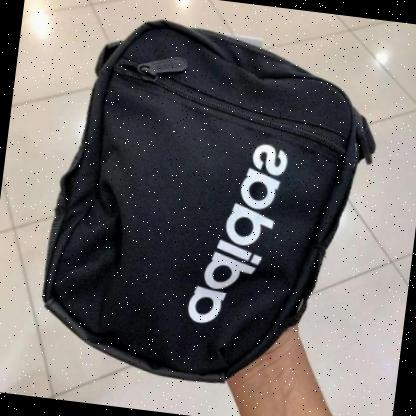bag: (19, 0, 389, 405)
